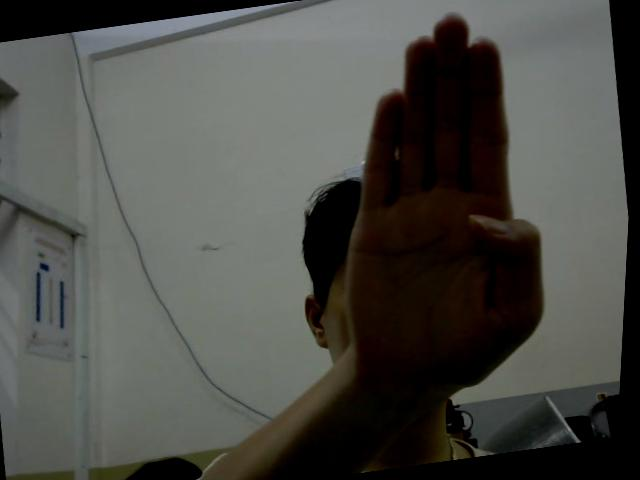B: (304, 1, 571, 397)
